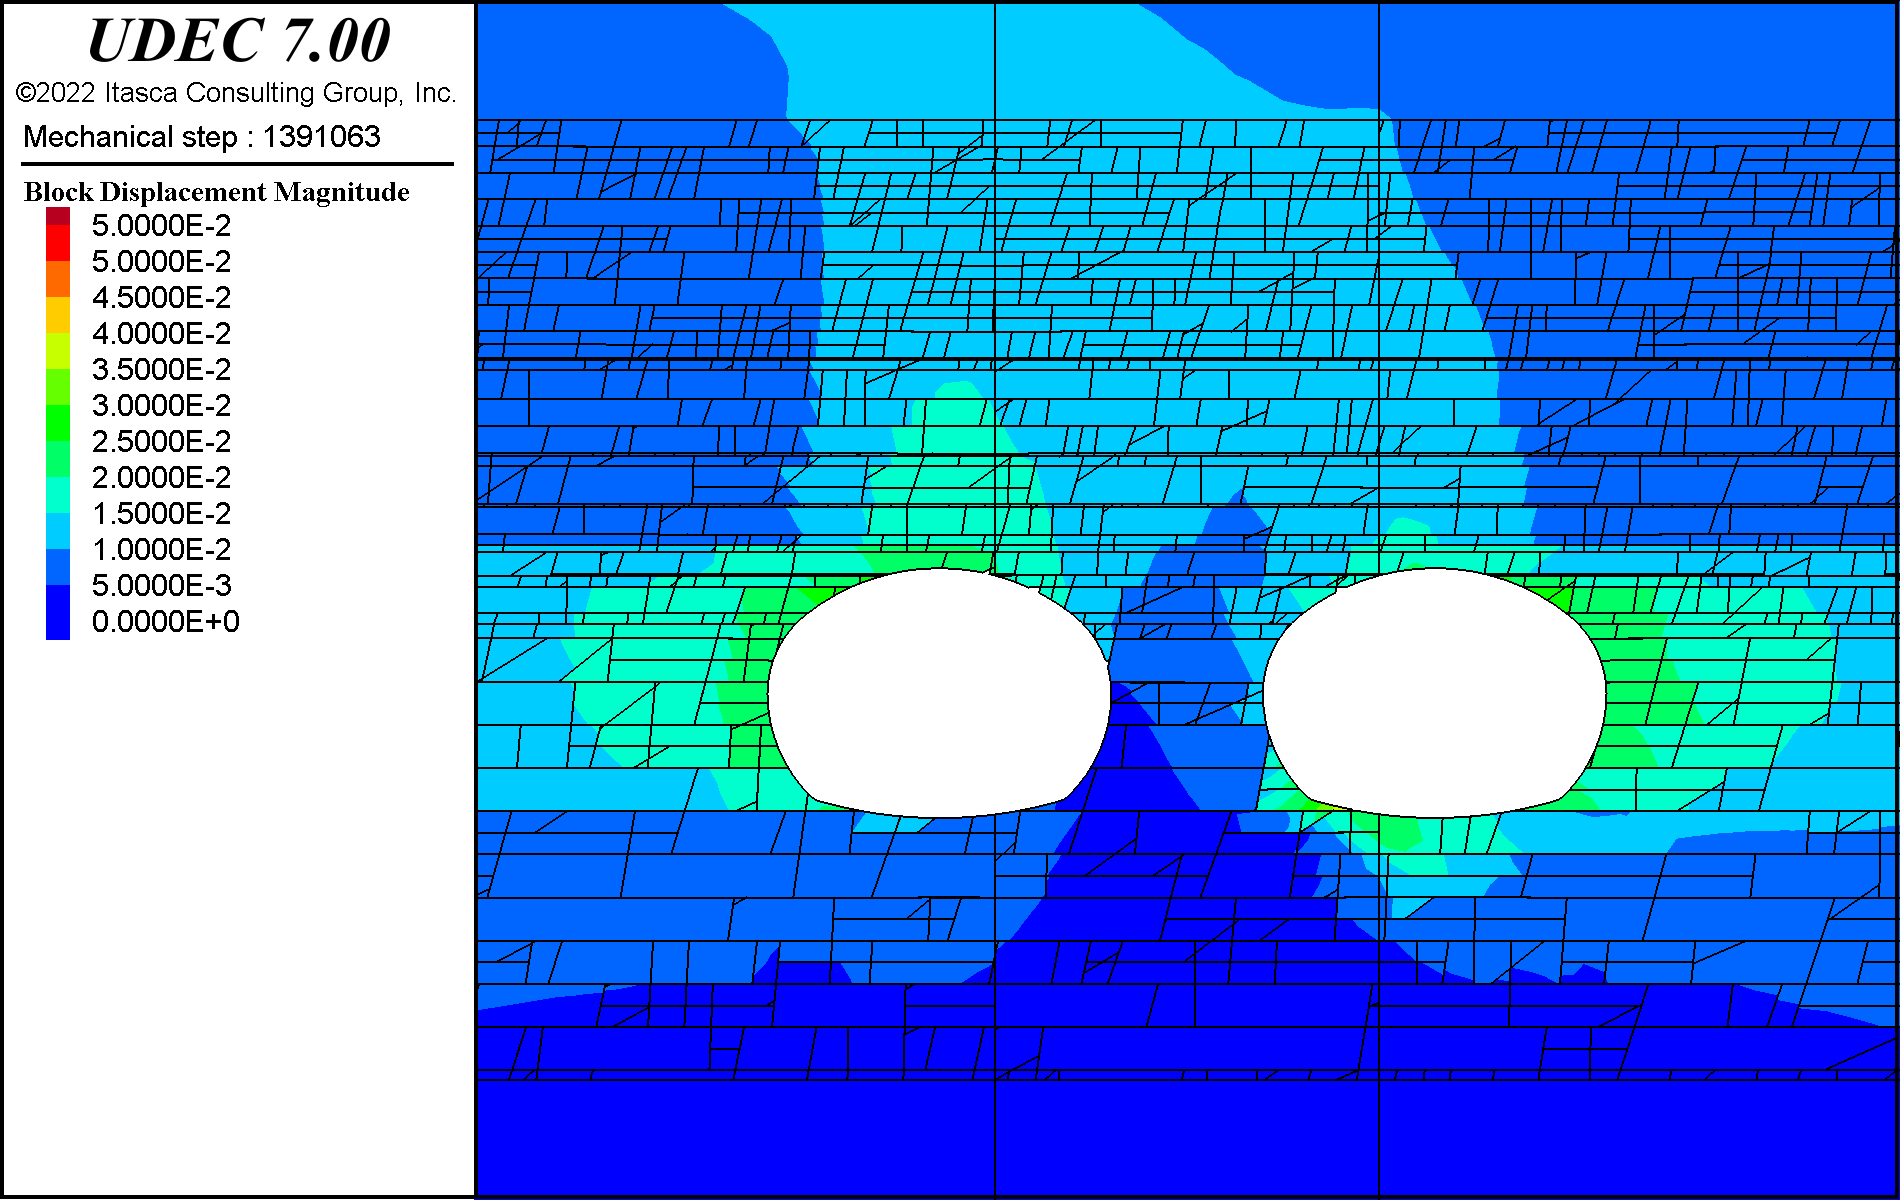crown: (895, 529, 985, 565), (1393, 532, 1481, 565)
label: (3, 3, 471, 1199)
tunnel-opening: (766, 568, 1115, 818), (1256, 571, 1606, 821)
